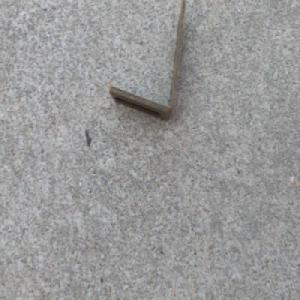MetalPart: (108, 0, 188, 123)
